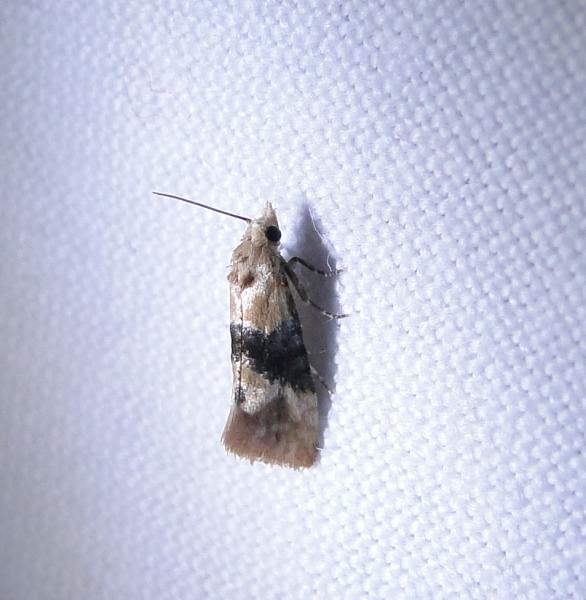Eupoecilia Ambiguella: (150, 187, 351, 472)
